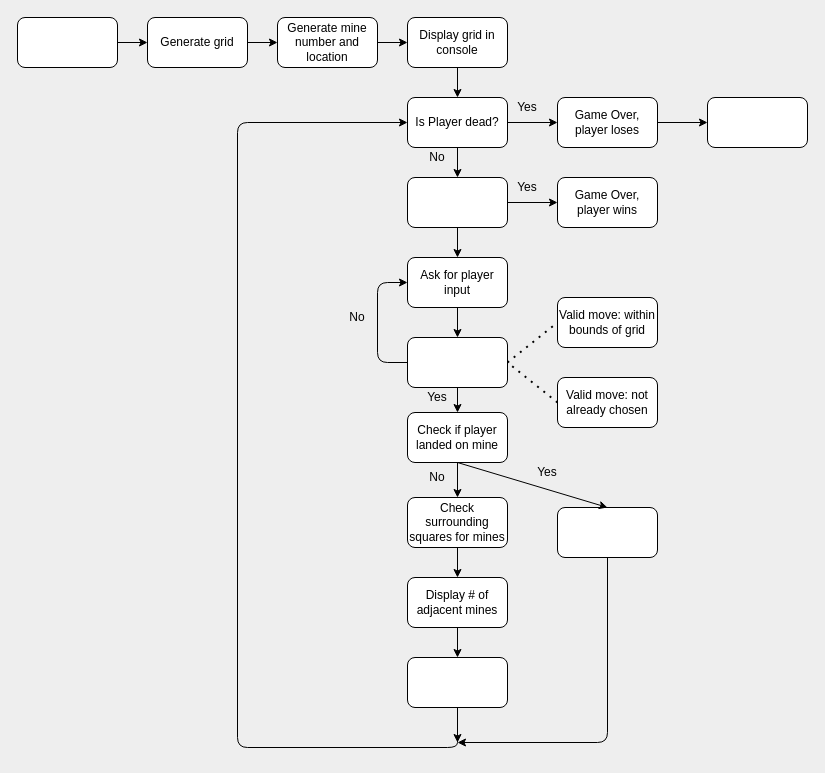
The diagram is 825 pixels wide and 773 high, and some of its shapes have lost their labels. Here are the shapes that lost their labels. From the top down, the centre of each, then its label:
At point 67,42: "User Input - row / column".
At point 757,122: "Reveal board showing mines".
At point 457,202: "# clear squares <= 0?".
At point 457,362: "Is valid move?".
At point 607,532: "Mark player as dead".
At point 457,682: "Update remaining # of clear squares".
